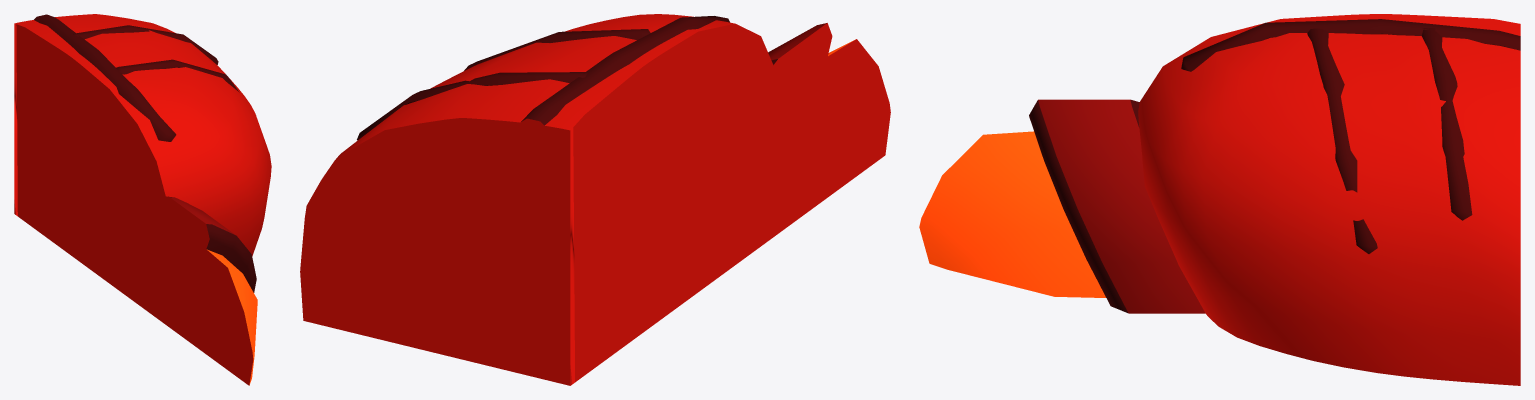
The model's file is shot_punch_b161.glb.
3 views of the same model, side by side, from view 1: azimuth 30°, elevation 25°; view 2: azimuth 150°, elevation 25°; view 3: azimuth 270°, elevation 25° (orthographic). The views are drawn at different scales.
Visible parts, largest first — view 1: pu_mitt_b161, pu_cuff_b161, pu_fire_b161, pu_crease_b161, pu_finger.001_b161, pu_finger.002_b161, pu_fire_core_b161; view 2: pu_mitt_b161, pu_cuff_b161, pu_fire_b161, pu_crease_b161, pu_finger.001_b161, pu_finger.002_b161; view 3: pu_mitt_b161, pu_cuff_b161, pu_fire_b161, pu_crease_b161, pu_finger.001_b161, pu_finger.002_b161.
Boxes of the visible parts, bbox=[...] form: pu_mitt_b161: bbox=[14, 14, 271, 307]; pu_cuff_b161: bbox=[133, 196, 256, 330]; pu_fire_b161: bbox=[175, 248, 257, 385]; pu_crease_b161: bbox=[34, 14, 176, 141]; pu_finger.001_b161: bbox=[73, 25, 218, 64]; pu_finger.002_b161: bbox=[116, 59, 239, 92]; pu_fire_core_b161: bbox=[174, 304, 194, 345]; pu_mitt_b161: bbox=[300, 14, 774, 385]; pu_cuff_b161: bbox=[716, 23, 832, 278]; pu_fire_b161: bbox=[787, 39, 890, 225]; pu_crease_b161: bbox=[520, 16, 729, 132]; pu_finger.001_b161: bbox=[357, 72, 587, 140]; pu_finger.002_b161: bbox=[464, 29, 650, 70]; pu_mitt_b161: bbox=[1138, 14, 1520, 385]; pu_cuff_b161: bbox=[1029, 99, 1205, 313]; pu_fire_b161: bbox=[919, 131, 1105, 297]; pu_crease_b161: bbox=[1181, 19, 1520, 71]; pu_finger.001_b161: bbox=[1422, 28, 1472, 220]; pu_finger.002_b161: bbox=[1307, 28, 1377, 253].
Size of the model in its own units: 5.71 by 5.46 by 11.73.
